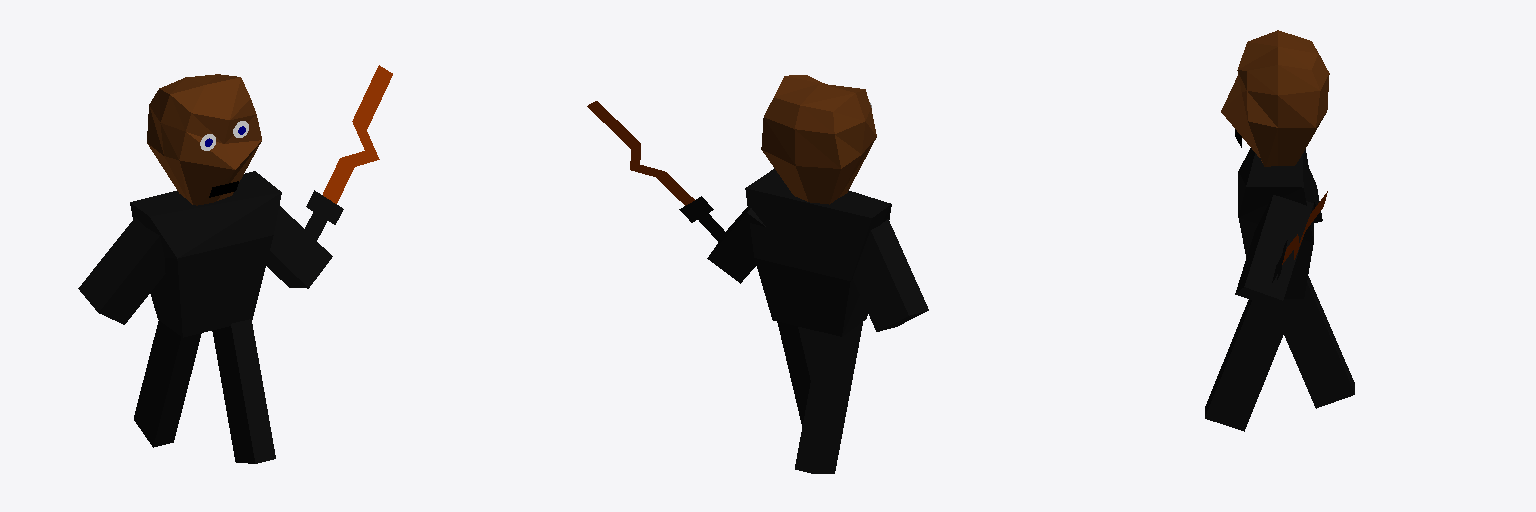
File: swordsman2.obj
3 renders of one model, left to right at view 1: azimuth 30°, elevation 25°; view 2: azimuth 150°, elevation 25°; view 3: azimuth 270°, elevation 25°, orthographic.
Parts seen in each view (by area): view 1: Cube.001, Cube, Cube.005, Cube.003, Cube.004, Cube.002, Plane.003_Plane.004, Plane.002_Plane.003; view 2: Cube.001, Cube, Cube.004, Cube.003, Cube.005, Cube.002, Plane.003_Plane.004; view 3: Cube, Cube.005, Cube.001, Cube.004, Cube.002.
Boxes of the visible parts, x1,y1,x2,y2 form: Cube.001: [130, 171, 281, 337]; Cube: [147, 74, 261, 205]; Cube.005: [212, 319, 275, 463]; Cube.003: [78, 217, 165, 324]; Cube.004: [134, 321, 201, 447]; Cube.002: [266, 205, 332, 288]; Plane.003_Plane.004: [323, 65, 392, 203]; Plane.002_Plane.003: [306, 190, 343, 224]; Cube.001: [745, 168, 891, 336]; Cube: [761, 75, 876, 204]; Cube.004: [795, 322, 862, 473]; Cube.003: [853, 219, 928, 331]; Cube.005: [777, 321, 819, 425]; Cube.002: [707, 207, 765, 283]; Plane.003_Plane.004: [587, 101, 694, 205]; Cube: [1221, 30, 1329, 166]; Cube.005: [1205, 299, 1297, 431]; Cube.001: [1238, 148, 1313, 298]; Cube.004: [1284, 276, 1354, 408]; Cube.002: [1235, 195, 1313, 307].
Bounding box in the file's own units: 5.33 × 5.89 × 2.19.